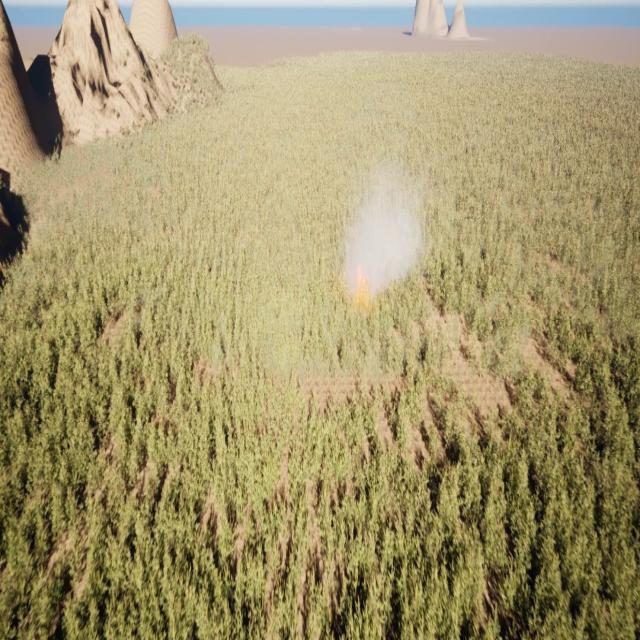fire: (354, 261, 370, 303)
smoke: (343, 156, 429, 302)
